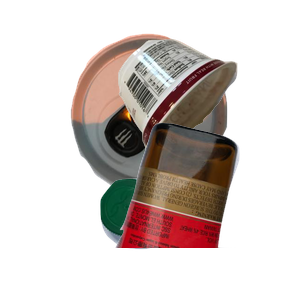glass: (113, 120, 300, 300)
metal: (68, 31, 288, 211)
plastic: (98, 176, 266, 300)
trash: (116, 36, 300, 187)
